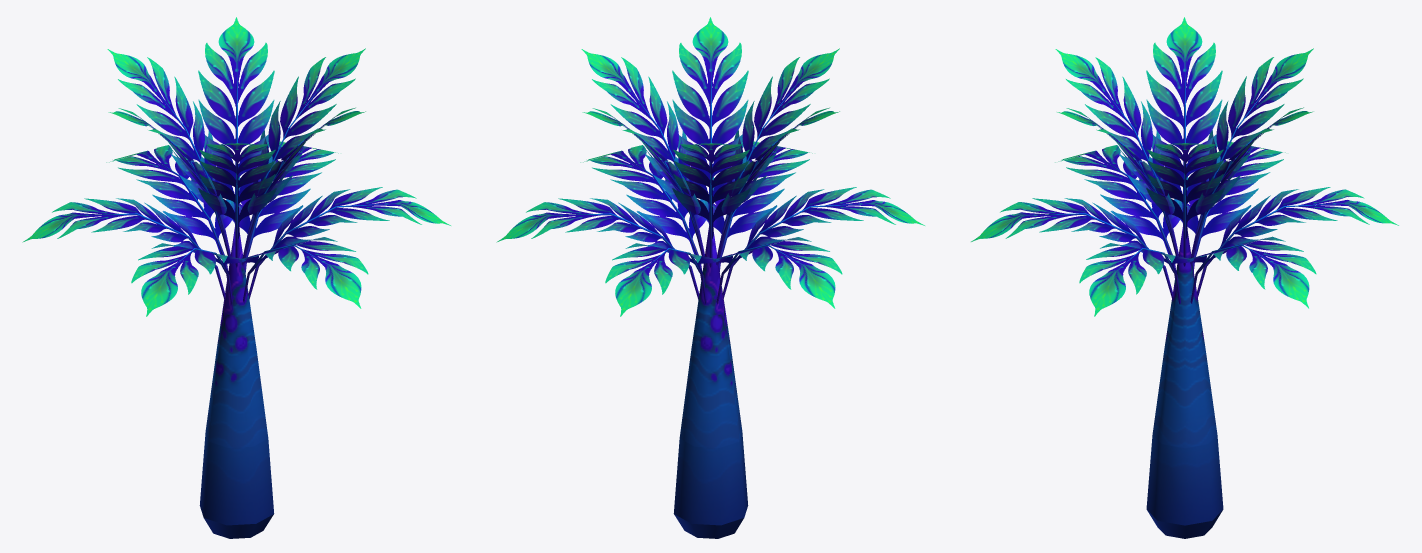
Rendered from Blue_Tree_07c.FBX.
3 renders of one model, left to right at view 1: azimuth 30°, elevation 25°; view 2: azimuth 150°, elevation 25°; view 3: azimuth 270°, elevation 25°, orthographic.
Visible parts, largest first — view 1: Blue_Tree_07c; view 2: Blue_Tree_07c; view 3: Blue_Tree_07c.
Part boxes in pixels (box(x1,y1,x2,y2)): Blue_Tree_07c: box(22, 17, 450, 538); Blue_Tree_07c: box(496, 17, 924, 538); Blue_Tree_07c: box(971, 17, 1398, 538).
Bounding box in the file's own units: 421 × 483 × 428.
